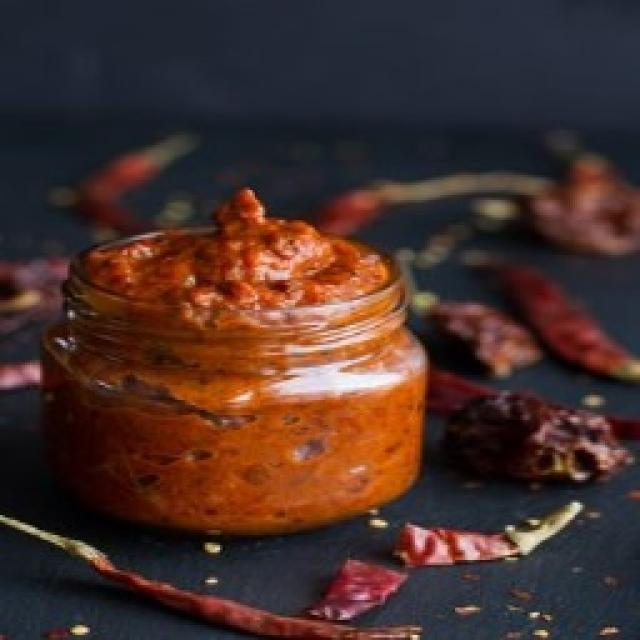Harissa: (44, 189, 428, 534)
